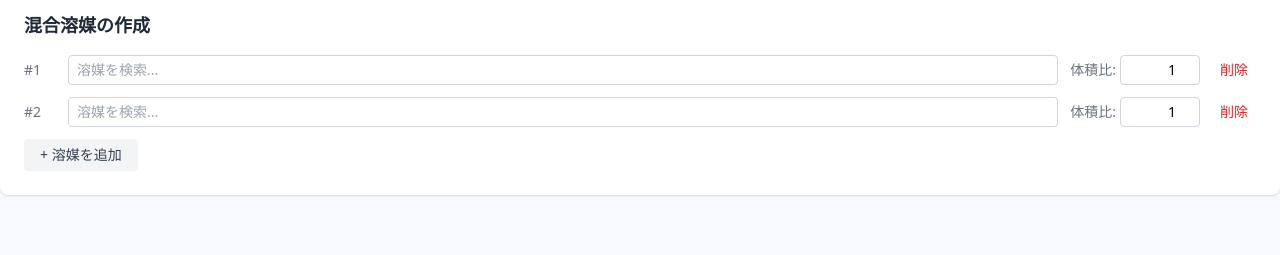
Test: MixtureLab › 溶媒追加ボタンで行が増える
Click the button "+ 溶媒を追加": x=81, y=155 top-left (24, 139), bottom-right (138, 171)
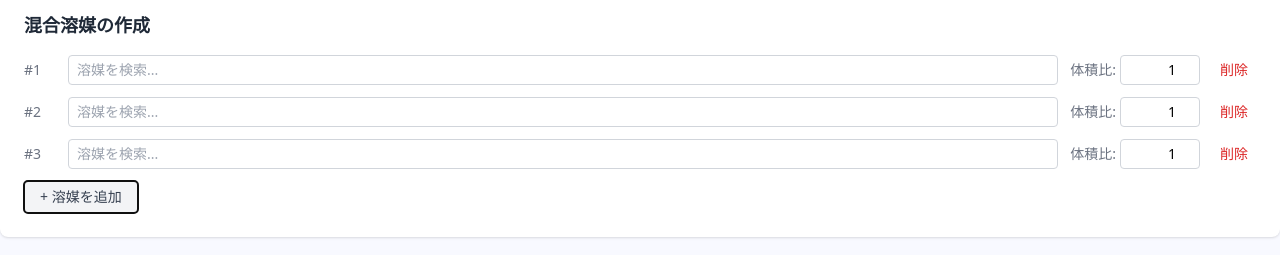
Now the number of fields with placeholder "溶媒を検索..." is 3, box top-left (68, 55), bottom-right (1058, 85); top-left (68, 97), bottom-right (1058, 127); top-left (68, 139), bottom-right (1058, 169)
